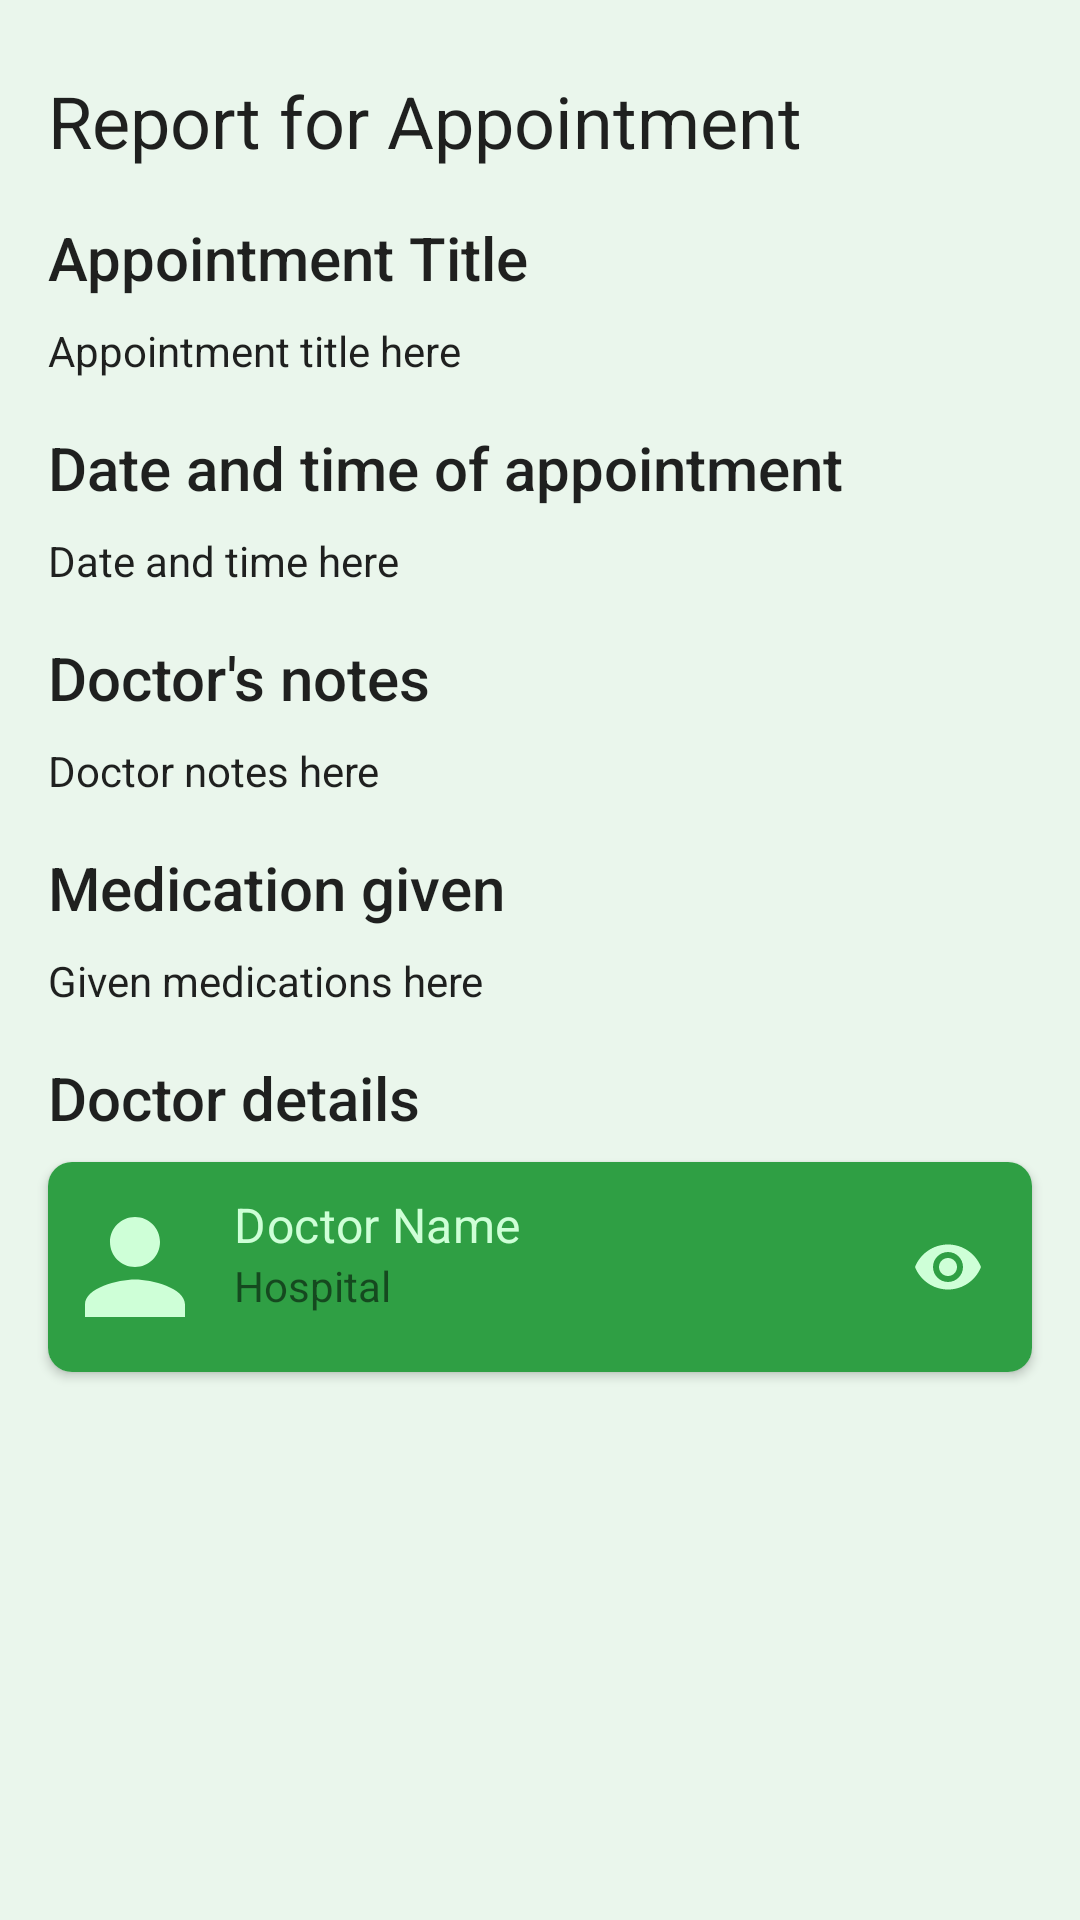

Icons on this 1080x1920 Android screen, each with the point to tap as point (x, y):
person: point (135, 1267)
